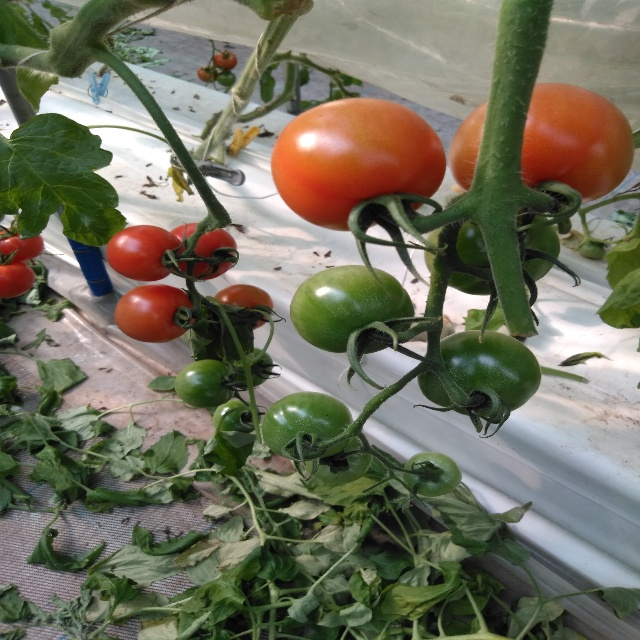l_fully_ripened: (269, 98, 446, 233), (114, 284, 196, 344), (106, 225, 182, 283), (171, 222, 238, 280), (0, 227, 44, 261), (0, 262, 35, 298)
l_green: (424, 197, 561, 297), (288, 265, 415, 355), (419, 330, 543, 418), (261, 392, 357, 461), (302, 433, 374, 485), (174, 359, 236, 409), (403, 451, 462, 498), (231, 347, 274, 388), (213, 399, 260, 435)
l_half_ripened: (449, 82, 636, 205), (214, 284, 274, 331)
